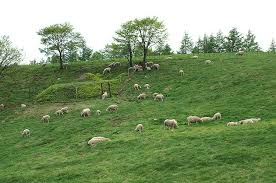sheep: (84, 136, 115, 148), (163, 117, 182, 132), (133, 122, 149, 137), (185, 116, 202, 127), (210, 111, 227, 122), (199, 112, 213, 125), (105, 101, 119, 114), (80, 107, 96, 118), (223, 115, 237, 127), (134, 90, 149, 101), (41, 112, 54, 124), (241, 116, 254, 127), (56, 104, 69, 115), (109, 61, 123, 70), (21, 128, 33, 138), (164, 51, 173, 63), (186, 53, 199, 61), (203, 57, 214, 66), (93, 108, 105, 116), (101, 66, 113, 74), (153, 93, 163, 102), (232, 49, 243, 57), (134, 84, 145, 91), (173, 68, 184, 75), (53, 110, 62, 118), (143, 83, 153, 90), (142, 61, 150, 69), (150, 61, 157, 70), (103, 91, 108, 99)
